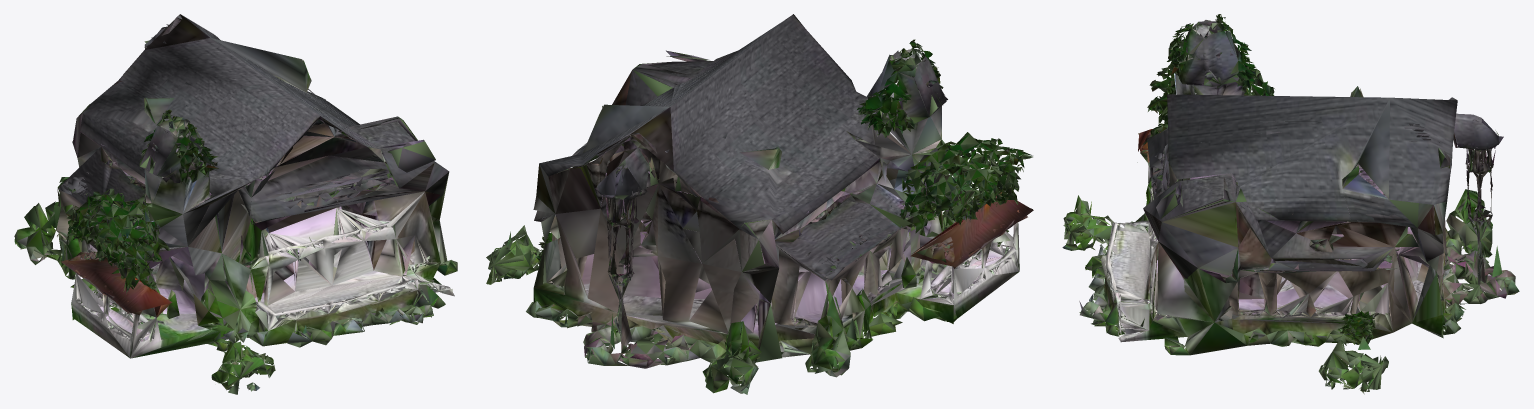
Rendered from house_town.glb.
The picture shows the model from 3 angles, left to right: view 1: azimuth 30°, elevation 25°; view 2: azimuth 150°, elevation 25°; view 3: azimuth 270°, elevation 25°; orthographic projection. The views are drawn at different scales.
Parts seen in each view (by area): view 1: house; view 2: house; view 3: house.
Part boxes in pixels (<box>): house: <box>14,14,457,394</box>; house: <box>486,14,1033,394</box>; house: <box>1062,14,1519,394</box>.
Bounding box in the file's own units: 1.9 × 1.06 × 1.87.
1 material, 1 textured.
